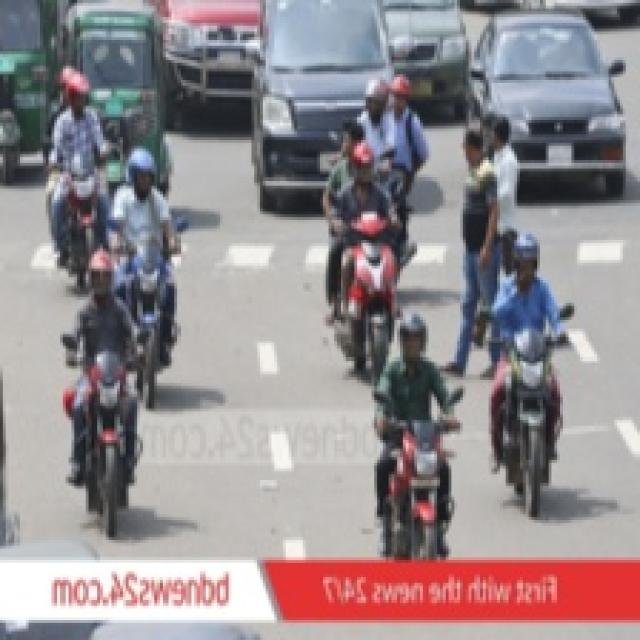bike: (497, 321, 572, 521), (70, 339, 146, 532), (337, 200, 415, 379), (380, 430, 469, 579), (125, 233, 181, 397), (61, 142, 110, 283)
car: (254, 3, 401, 196), (470, 10, 622, 175), (386, 2, 477, 101)
